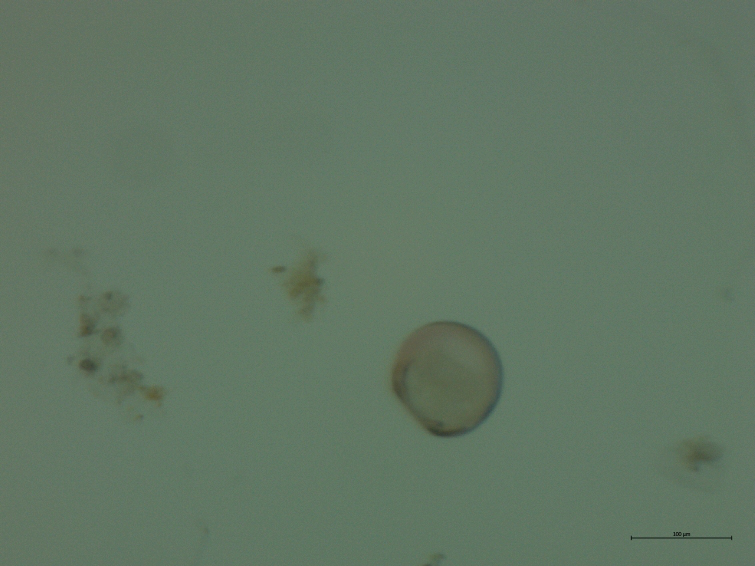oyster: (379, 311, 514, 451)
